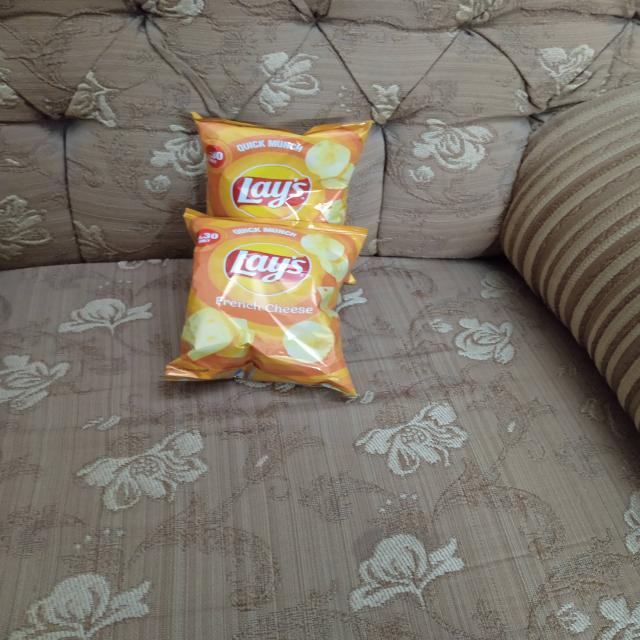Plastic: (168, 223, 367, 394), (198, 115, 374, 220)
